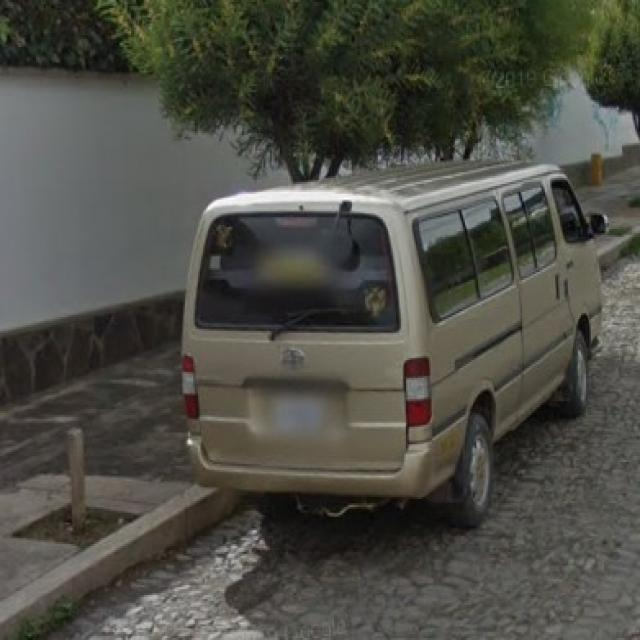car: (187, 176, 619, 527)
